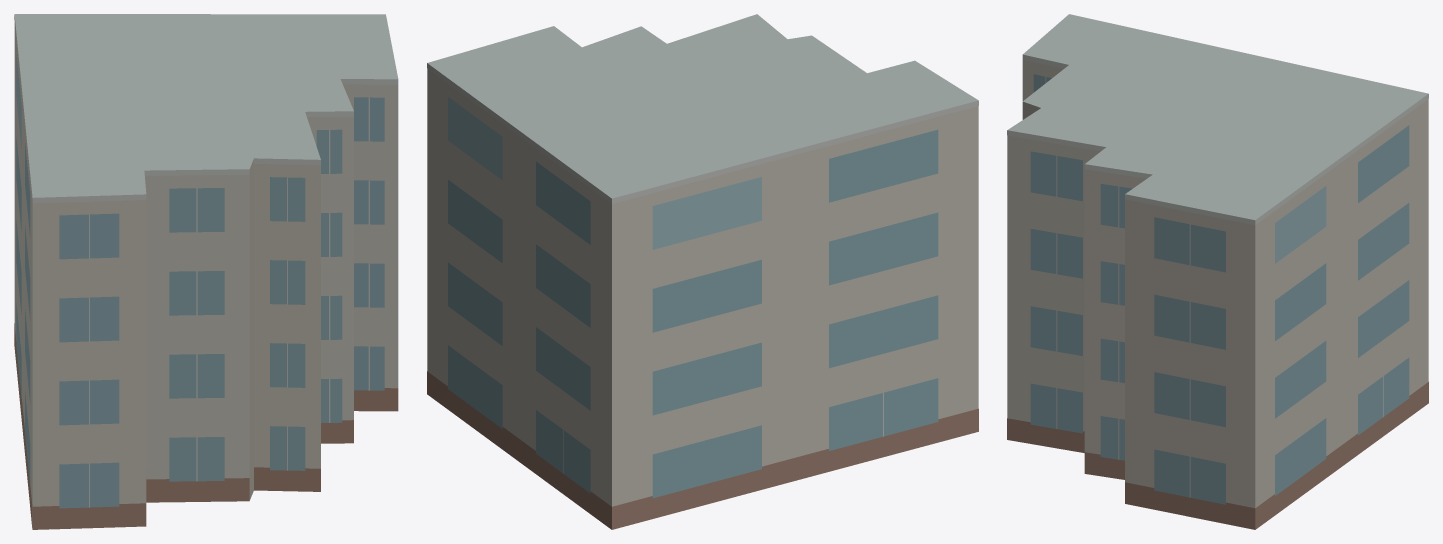
File: survey-upis-32489982.glb
3 renders of one model, left to right at view 1: azimuth 30°, elevation 25°; view 2: azimuth 150°, elevation 25°; view 3: azimuth 270°, elevation 25°, orthographic. The views are drawn at different scales.
Visible parts, largest first — view 1: survey-upis-32489982.tmp; view 2: survey-upis-32489982.tmp; view 3: survey-upis-32489982.tmp.
Boxes of the visible parts, x1,y1,x2,y2 form: survey-upis-32489982.tmp: (14, 14, 398, 529); survey-upis-32489982.tmp: (427, 14, 978, 529); survey-upis-32489982.tmp: (1007, 14, 1428, 529).
Size of the model in its own units: 21.29 by 14.9 by 18.39.
